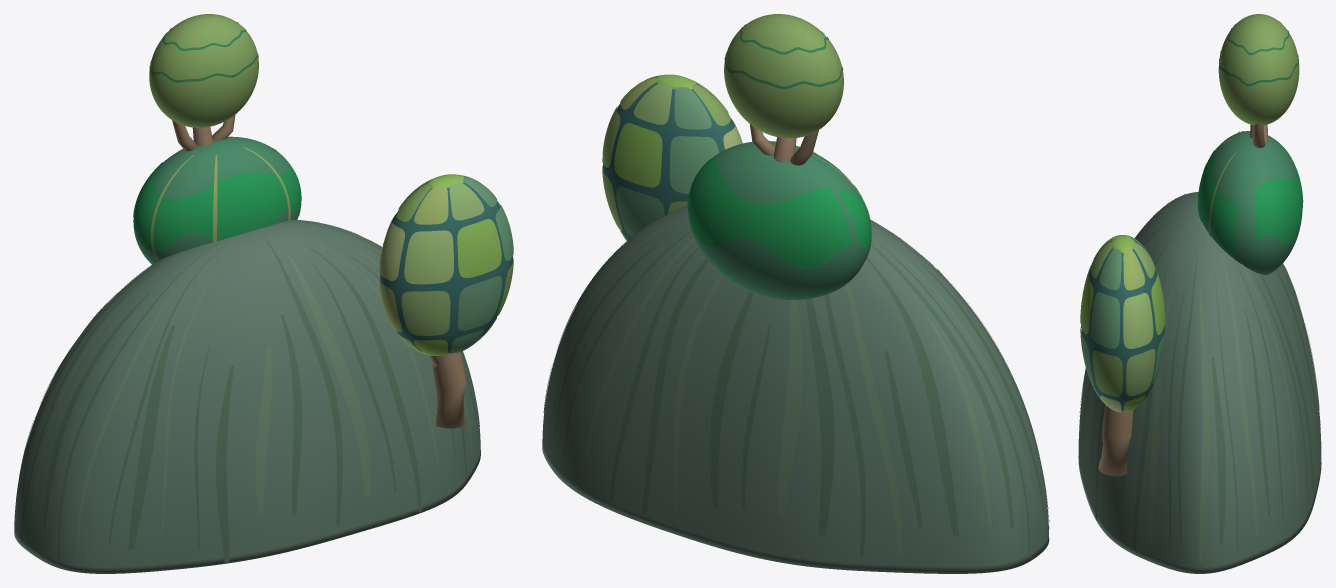
File: forest.glb
3 views of the same model, side by side, from view 1: azimuth 30°, elevation 25°; view 2: azimuth 150°, elevation 25°; view 3: azimuth 270°, elevation 25° (orthographic). The views are drawn at different scales.
Visible parts, largest first — view 1: g5747_6_forest_hills_and_trees; view 2: g5747_6_forest_hills_and_trees; view 3: g5747_6_forest_hills_and_trees.
Boxes of the visible parts, bbox=[...] form: g5747_6_forest_hills_and_trees: bbox=[14, 14, 513, 573]; g5747_6_forest_hills_and_trees: bbox=[542, 14, 1049, 573]; g5747_6_forest_hills_and_trees: bbox=[1078, 14, 1321, 573].
Size of the model in its own units: 0.9991 by 1 by 0.4948.
